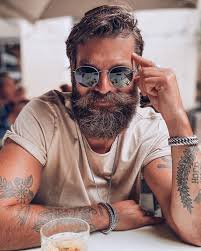b.y: (76, 93, 132, 135)
